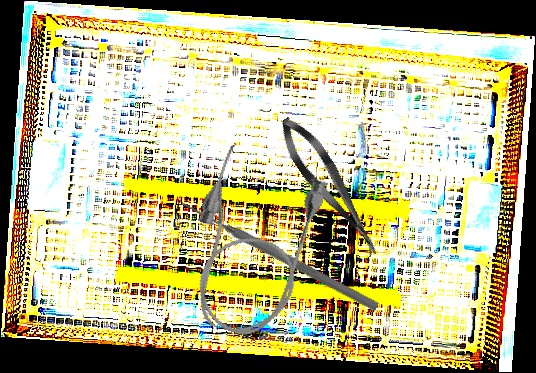Cannula: (170, 141, 332, 346)
Micro Scissor: (271, 110, 389, 263)
Pusher: (178, 196, 381, 314)
